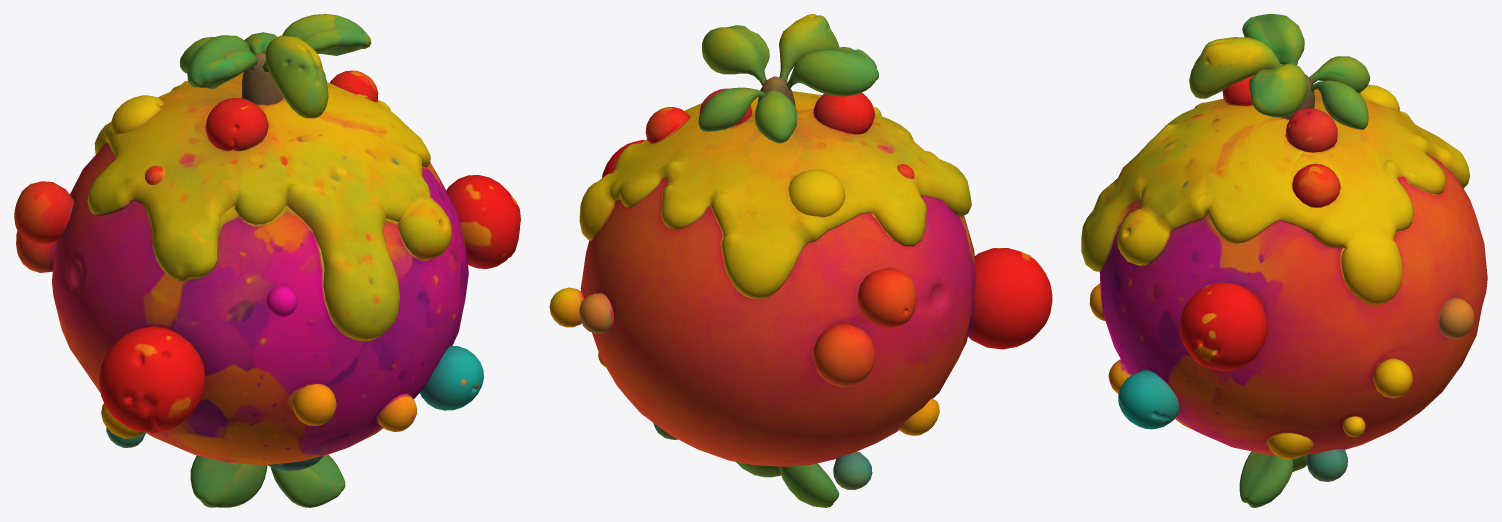
Rendered from dream-planet-raspberry.glb.
3 views of the same model, side by side, from view 1: azimuth 30°, elevation 25°; view 2: azimuth 150°, elevation 25°; view 3: azimuth 270°, elevation 25° (orthographic). The views are drawn at different scales.
Visible parts, largest first — view 1: tripo_node_8bcdfdce-96fe-4ea6-98e3-87449a7f91e3; view 2: tripo_node_8bcdfdce-96fe-4ea6-98e3-87449a7f91e3; view 3: tripo_node_8bcdfdce-96fe-4ea6-98e3-87449a7f91e3.
Boxes of the visible parts, x1,y1,x2,y2 form: tripo_node_8bcdfdce-96fe-4ea6-98e3-87449a7f91e3: (14, 14, 520, 507); tripo_node_8bcdfdce-96fe-4ea6-98e3-87449a7f91e3: (549, 14, 1052, 507); tripo_node_8bcdfdce-96fe-4ea6-98e3-87449a7f91e3: (1081, 14, 1487, 507).
Bounding box in the file's own units: 0.9536 × 0.9995 × 0.8208.
Materials: 1 (1 with a texture image).
